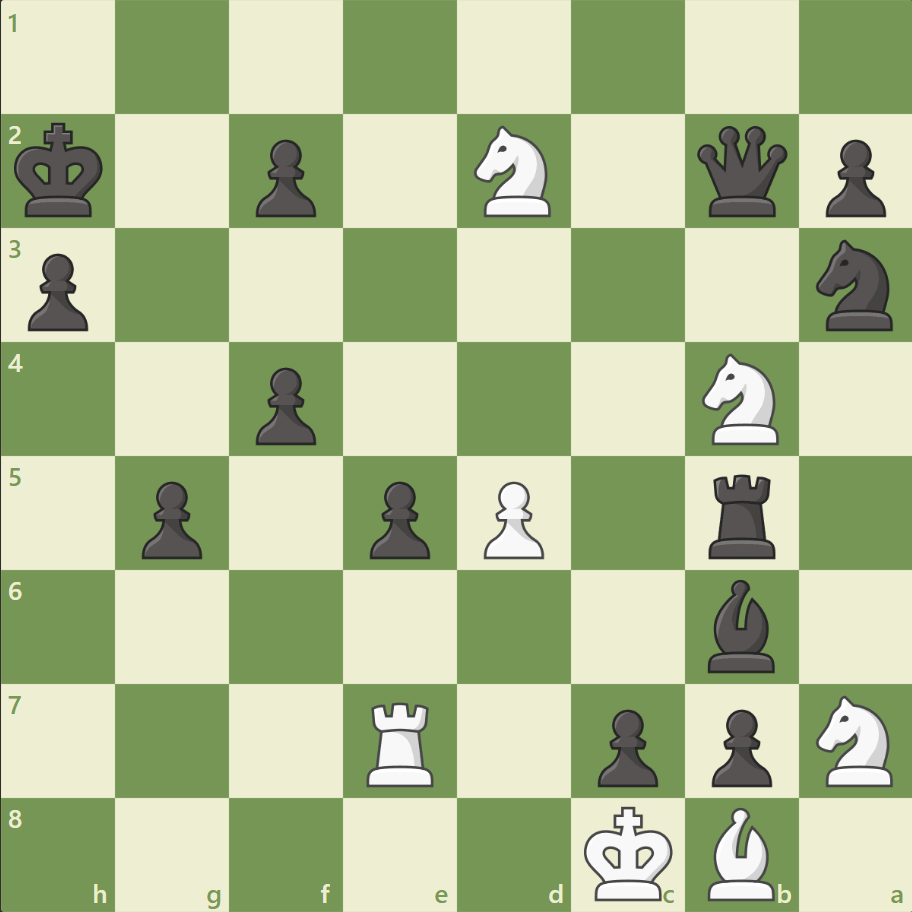B: (698, 801, 782, 904)
K: (579, 798, 679, 906)
N: (806, 688, 903, 791), (692, 348, 789, 450), (465, 121, 562, 223)
P: (474, 473, 549, 564)
R: (360, 693, 442, 790)
b: (698, 574, 782, 676)
k: (11, 117, 111, 225)
n: (806, 234, 903, 337)
p: (701, 700, 776, 791), (133, 473, 208, 564), (247, 359, 322, 450), (20, 246, 95, 337), (247, 132, 322, 223), (588, 700, 662, 791), (361, 473, 435, 564), (815, 132, 889, 223)
q: (691, 122, 790, 222)
r: (700, 466, 783, 563)
